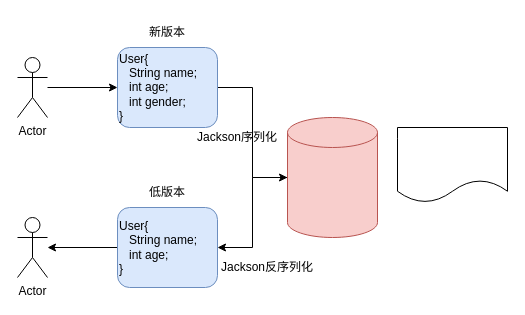
The diagram is 525 pixels wide and 315 high, and some of its shapes have lost their labels. Each missing label, with the box of its shape:
redis: (286, 116, 378, 238)
这里不只是redis,其他存储甚至是内存。就是一个中介: (396, 126, 508, 202)
